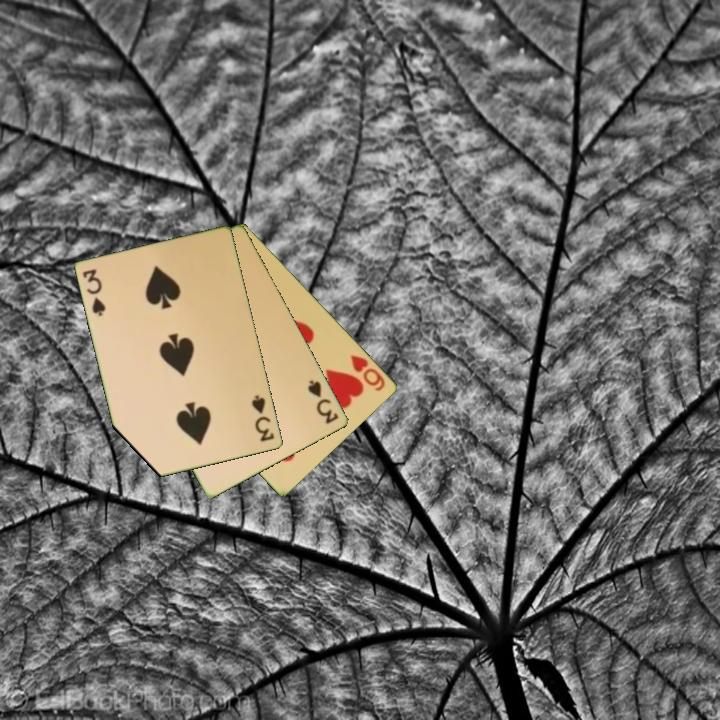3s: (304, 376, 342, 427), (248, 392, 278, 445), (80, 266, 109, 319)
6h: (347, 351, 388, 394)
